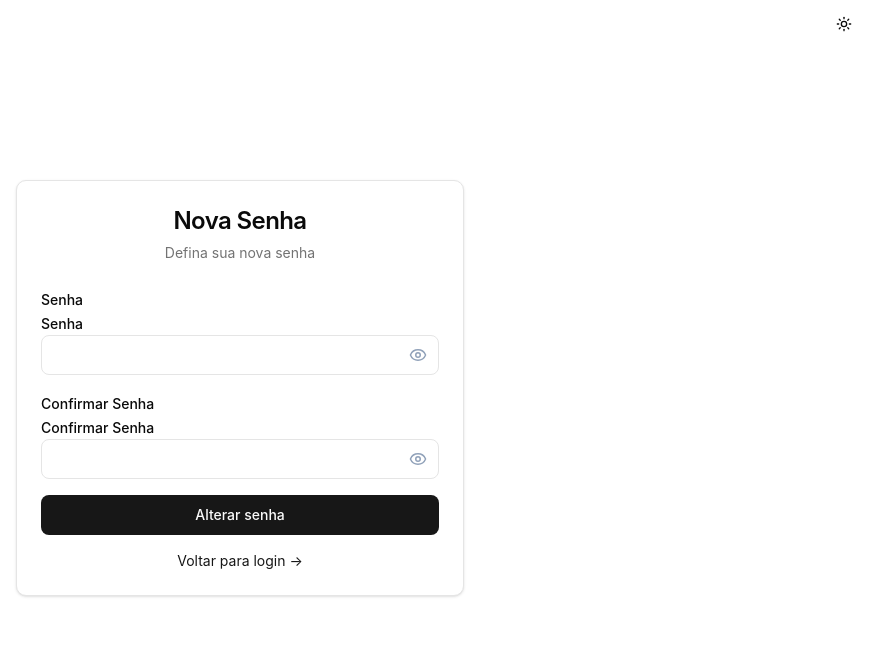
Scenario: ResetPasswordPage (shadcn redesign) › shows password strength meter
In the password field labelled "Senha": (240, 355) [41,335,439,375], type "Str0ng!Pass"
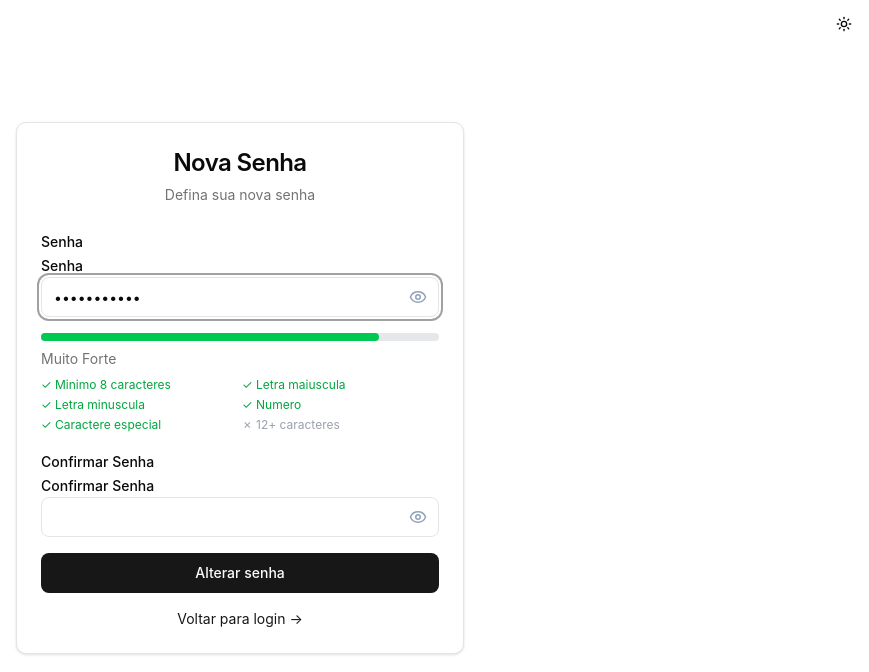
Expected: the text "Muito Forte" is shown, [41,350,116,367]
